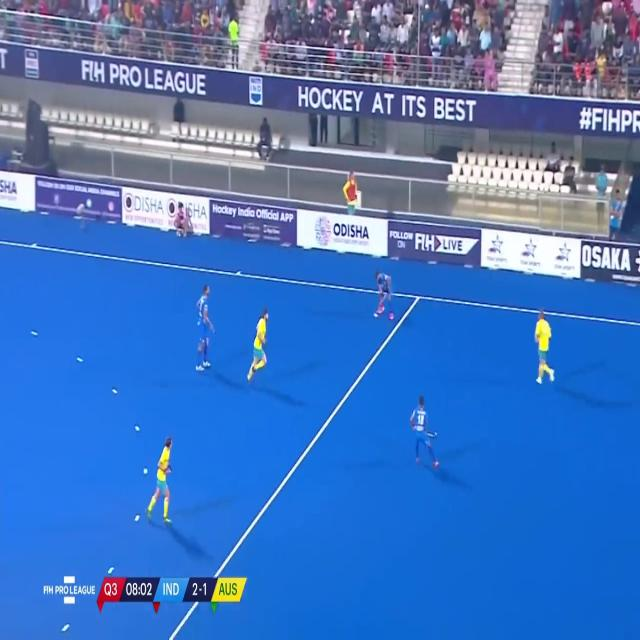ball: (372, 310, 378, 320)
